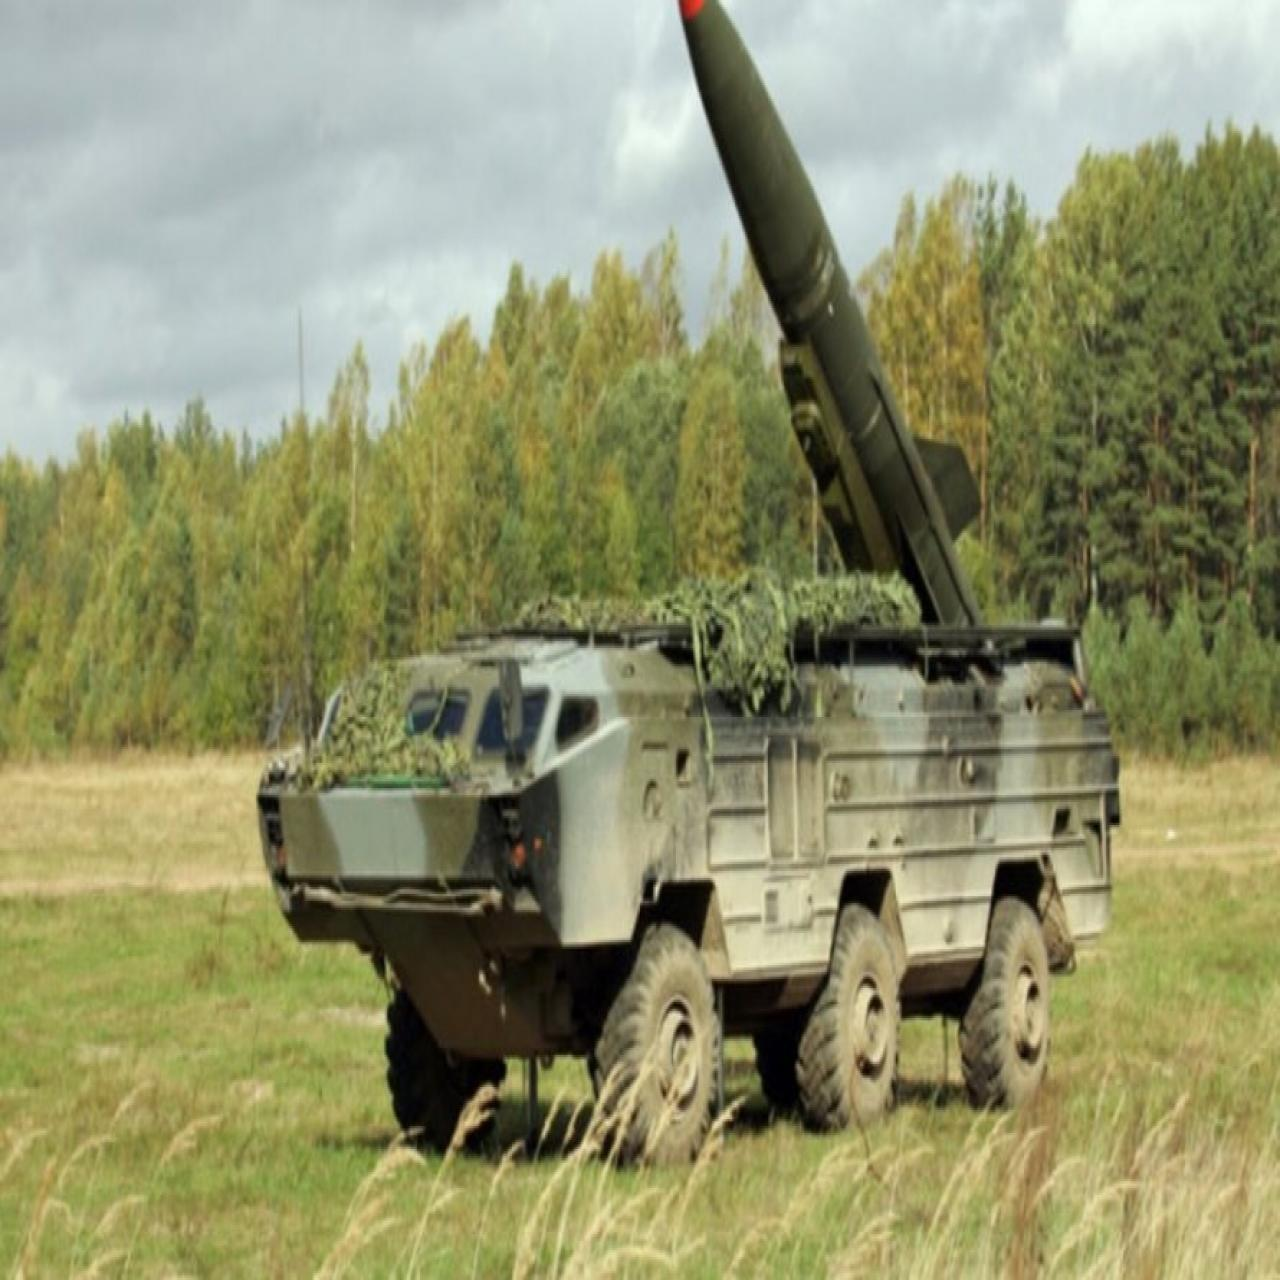MIL_Veh: (263, 0, 1119, 1160)
